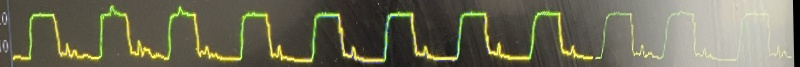hydrop_pressure: (2, 2, 737, 67)
